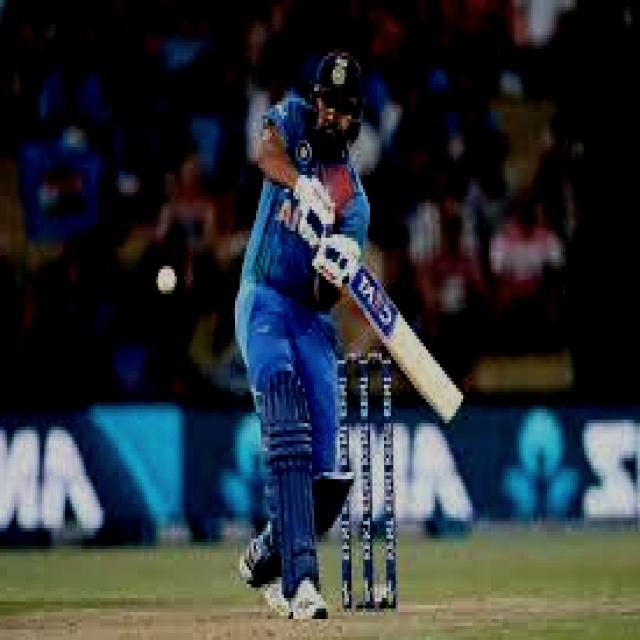toe: (444, 391, 465, 427)
